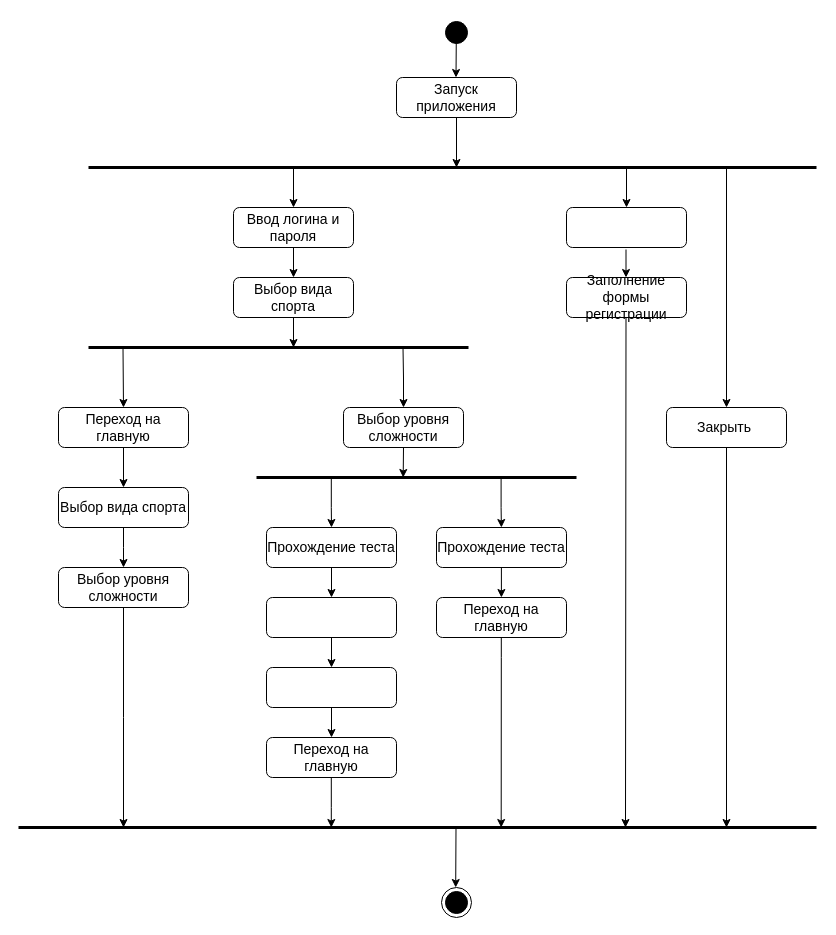
This 836x935 diagram has some shape labels left out. The centre of each missing label's shape, as x and y in pixels:
Переход на таблицу результатов: point (331, 617)
Переход на форму регистрации: point (626, 227)
Просмотр последних результатов: point (331, 687)
